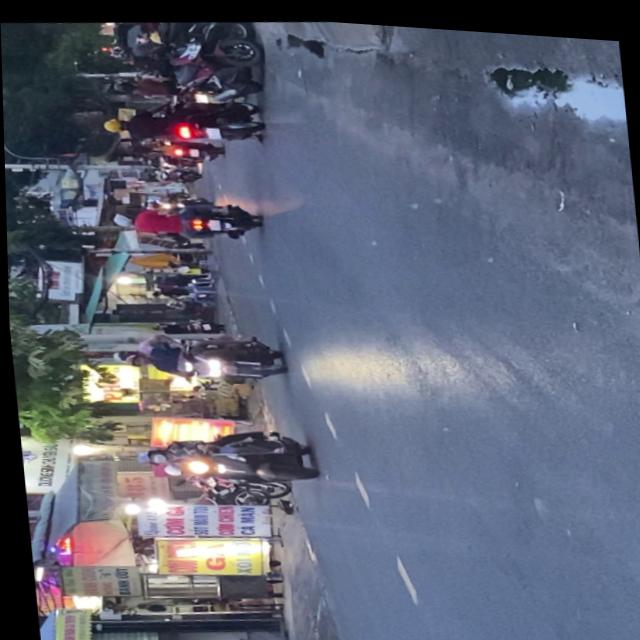helmet: (132, 446, 164, 466), (110, 346, 140, 362), (121, 351, 150, 366)
licenseplate: (127, 414, 318, 492), (107, 320, 288, 390)
